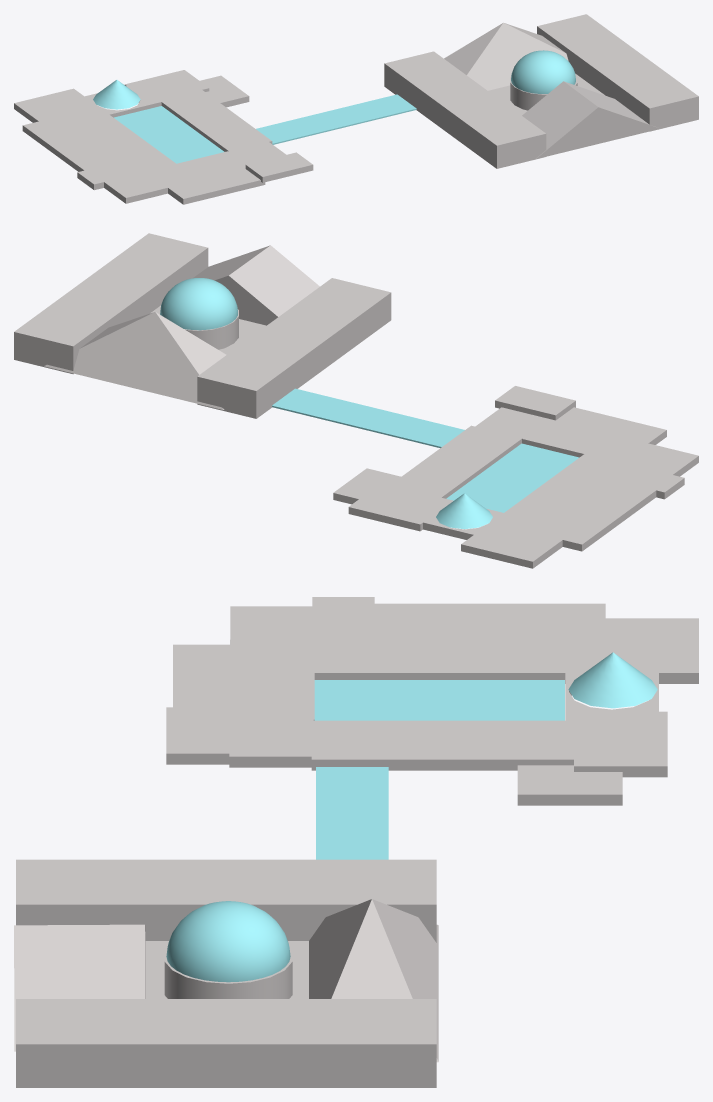
Rendered from Roof.glb.
3 views of the same model, one above another, from view 1: azimuth 30°, elevation 25°; view 2: azimuth 150°, elevation 25°; view 3: azimuth 270°, elevation 25° (orthographic). The views are drawn at different scales.
Visible parts, largest first — view 1: Box383 (×3), Box386 (×4), Box385 (×2), Prism001, Box391 (×2), Pyramid001, Box389, Box388, Sphere047, Spindle004, Box393, Cylinder047 (+1 smaller); view 2: Box383 (×3), Box386 (×4), Box385 (×2), Pyramid001, Box391 (×2), Prism001, Box389, Box388, Sphere047, Spindle004, Box393, Cylinder047 (+1 smaller); view 3: Box383 (×3), Box386 (×4), Box391 (×2), Box385 (×2), Pyramid001, Box388, Prism001, Box389, Sphere047, Spindle004, Cylinder047, Box393 (+1 smaller).
Part boxes in pixels (x1,y1,x2,y2): Box383 (×3): (245, 14, 698, 182); Box386 (×4): (14, 70, 249, 194); Box385 (×2): (114, 94, 416, 163); Prism001: (522, 81, 660, 158); Box391 (×2): (150, 83, 286, 164); Pyramid001: (444, 22, 568, 90); Box389: (148, 151, 265, 204); Box388: (22, 116, 162, 203); Sphere047: (511, 50, 575, 93); Spindle004: (93, 80, 140, 109); Box393: (81, 83, 161, 117); Cylinder047: (510, 75, 577, 110); Box383 (×3): (14, 233, 575, 420); Box386 (×4): (333, 434, 684, 568); Box385 (×2): (272, 388, 579, 512); Pyramid001: (44, 312, 226, 409); Box391 (×2): (379, 407, 549, 507); Prism001: (193, 245, 319, 325); Box389: (523, 407, 666, 462); Box388: (543, 446, 698, 551); Sphere047: (160, 278, 237, 330); Spindle004: (436, 493, 492, 529); Box393: (407, 497, 507, 539); Cylinder047: (158, 308, 238, 349); Box383 (×3): (16, 707, 436, 1087); Box386 (×4): (230, 597, 698, 805); Box391 (×2): (229, 716, 608, 770); Box385 (×2): (314, 680, 564, 859); Pyramid001: (309, 899, 438, 1062); Box388: (230, 603, 605, 644); Prism001: (14, 924, 145, 1051); Box389: (173, 644, 314, 720); Sphere047: (166, 901, 290, 982); Spindle004: (568, 652, 657, 708); Cylinder047: (164, 949, 292, 998); Box393: (565, 669, 658, 723).
Size of the model in its own units: 3.27 by 0.3281 by 1.97.
